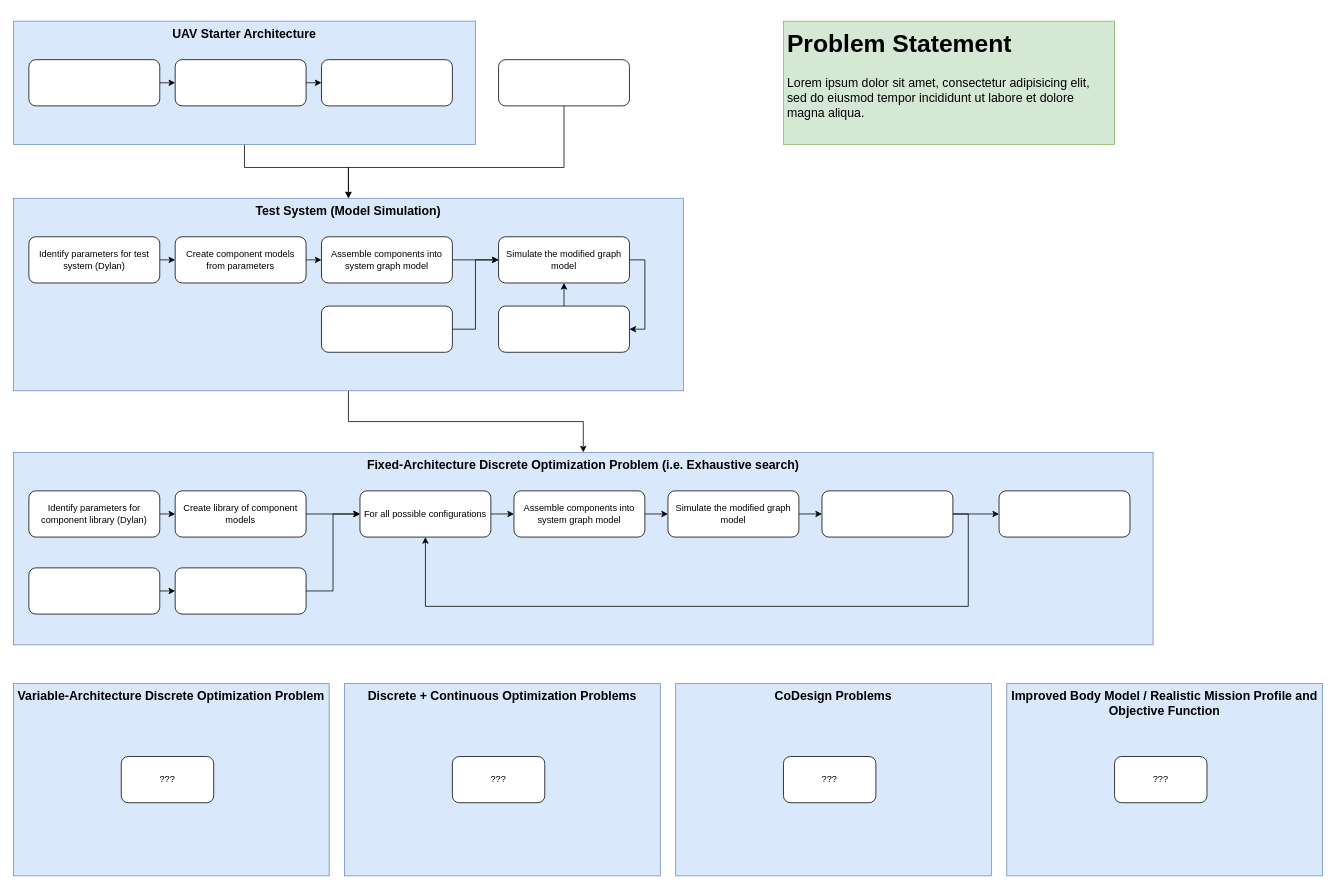
This 1336x889 diagram has some shape labels left out. The shapes that lost their labels are listed below. From the top down, each one's centre as x and y in pixels, then its label:
[94,82]: Define starter UAV architecture
[240,82]: Identify required component models
[386,82]: Test/Modify required component models
[563,82]: Get Graph Models Tools up and running
[386,328]: Identify inputs for system simulation (Dylan)
[563,328]: Debug/Improve simulation process
[887,513]: Evaluate Cost Function
[1064,513]: Identify Optimal Configuration
[94,590]: Define cost function
[240,590]: Define input/mission profile
